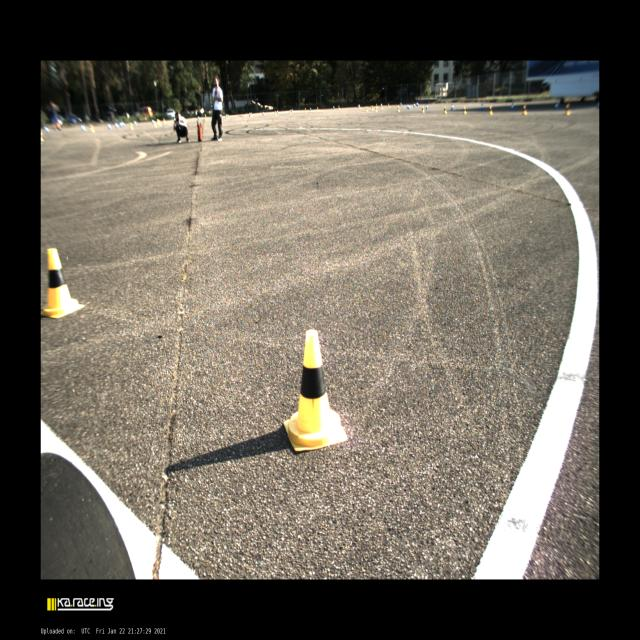blue_cone: (554, 104, 558, 110), (451, 104, 454, 110), (511, 104, 514, 110), (426, 103, 428, 110), (408, 105, 411, 109), (481, 104, 483, 110), (198, 116, 200, 120), (400, 102, 402, 106), (414, 104, 416, 108), (417, 102, 419, 106), (276, 110, 278, 114), (262, 112, 264, 115), (291, 109, 293, 112), (227, 115, 229, 118), (407, 104, 408, 108), (249, 112, 250, 116), (310, 108, 311, 111), (333, 106, 334, 109)
yellow_cone: (284, 329, 347, 452), (41, 248, 85, 318), (521, 105, 528, 116), (564, 104, 570, 115), (462, 106, 467, 115), (489, 106, 493, 115), (443, 106, 447, 114), (204, 114, 207, 121), (397, 106, 400, 112), (365, 106, 368, 112), (250, 112, 253, 118), (274, 110, 277, 116), (316, 106, 319, 112), (422, 106, 424, 114), (375, 107, 378, 112), (225, 114, 228, 119), (304, 108, 307, 113), (358, 104, 361, 109), (380, 104, 383, 109), (371, 105, 373, 111), (289, 110, 292, 114), (338, 105, 340, 110), (388, 103, 390, 108), (376, 104, 378, 108)
